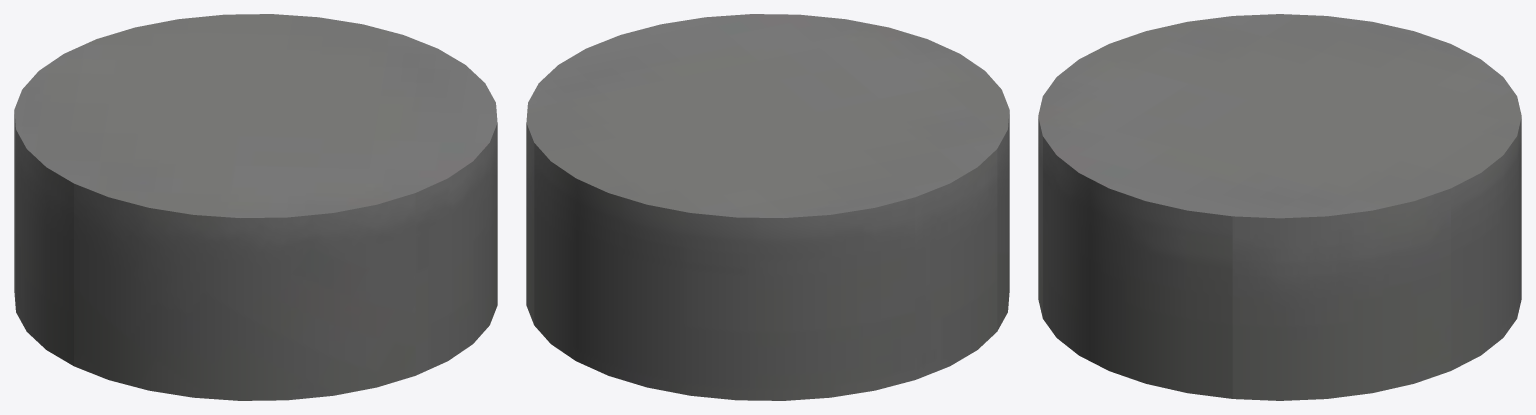
Rendered from base__roller_axle_stub_0.glb.
3 views of the same model, side by side, from view 1: azimuth 30°, elevation 25°; view 2: azimuth 150°, elevation 25°; view 3: azimuth 270°, elevation 25° (orthographic).
Parts seen in each view (by area): view 1: world; view 2: world; view 3: world.
Part boxes in pixels (x1,y1,x2,y2): world: (14, 14, 497, 400); world: (526, 14, 1009, 400); world: (1038, 14, 1521, 400).
Size of the model in its own units: 0.024 by 0.01 by 0.024.
1 material, 1 textured.
